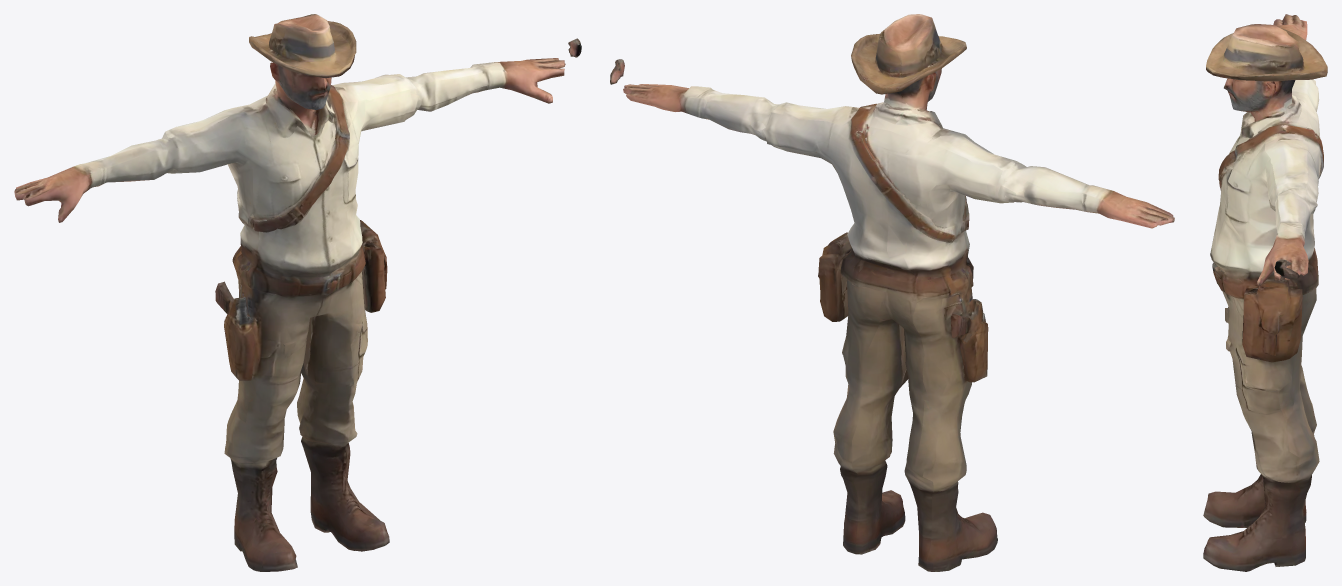
File: crew-personD.glb
The picture shows the model from 3 angles, left to right: view 1: azimuth 30°, elevation 25°; view 2: azimuth 150°, elevation 25°; view 3: azimuth 270°, elevation 25°; orthographic projection. The views are drawn at different scales.
Parts seen in each view (by area): view 1: char1; view 2: char1; view 3: char1.
Boxes of the visible parts, x1,y1,x2,y2 form: char1: [14, 14, 581, 571]; char1: [610, 14, 1174, 571]; char1: [1203, 14, 1327, 571].
Bounding box in the file's own units: 192 × 171 × 37.66.
Materials: 1 (1 with a texture image).
